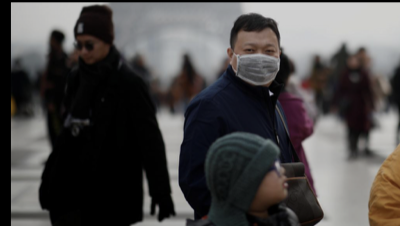with_mask: (232, 42, 282, 86)
without_mask: (260, 161, 289, 205), (73, 36, 105, 65)
